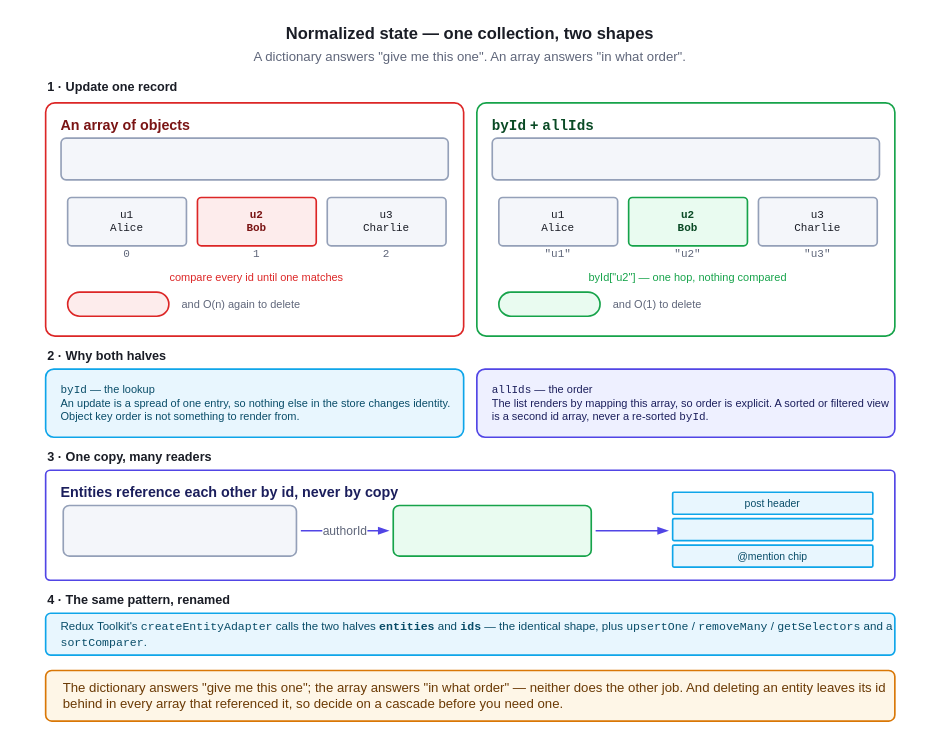
The diagram is 939 pixels wide and 740 high, and some of its shapes have lost their labels. The shapes that lost their labels are listed below. From the top down, each one's box as (x1, y1, x2, y2) in pixels, then its label:
(60, 137, 449, 180): users: [ { id: "u2", name: "Bob" }, … ]
(491, 137, 880, 180): byId: { u1: {…}, u2: {…}, u3: {…} } allIds: ["u1", "u2", "u3"]
(66, 291, 169, 317): O(n)
(498, 291, 600, 317): O(1)
(62, 504, 297, 556): posts.byId["p9"] { id: "p9", authorId: "u2" }
(392, 504, 592, 556): users.byId["u2"] { name: "Bob" }
(671, 517, 873, 541): comment list
